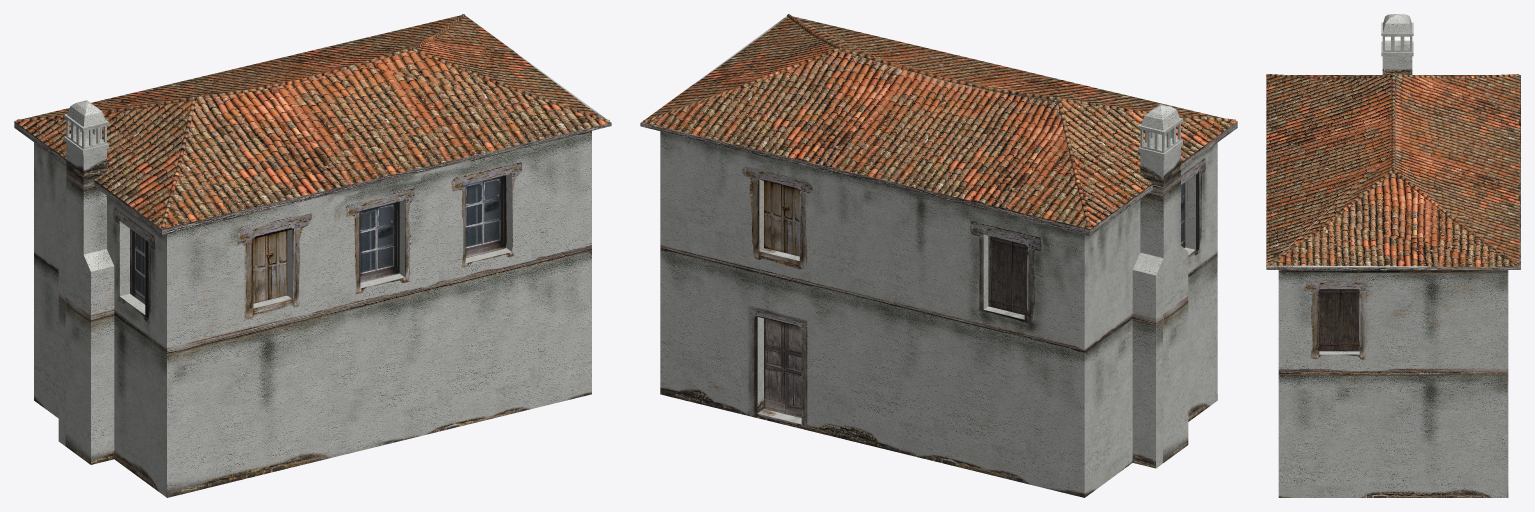
The model's file is ottoman1b.fbx.
3 renders of one model, left to right at view 1: azimuth 30°, elevation 25°; view 2: azimuth 150°, elevation 25°; view 3: azimuth 270°, elevation 25°, orthographic. The views are drawn at different scales.
Visible parts, largest first — view 1: Group1; view 2: Group1; view 3: Group1.
Boxes of the visible parts, x1,y1,x2,y2 form: Group1: (14, 14, 611, 497); Group1: (640, 14, 1237, 497); Group1: (1266, 14, 1520, 497).
Bounding box in the file's own units: 2775 × 1999 × 1537.
